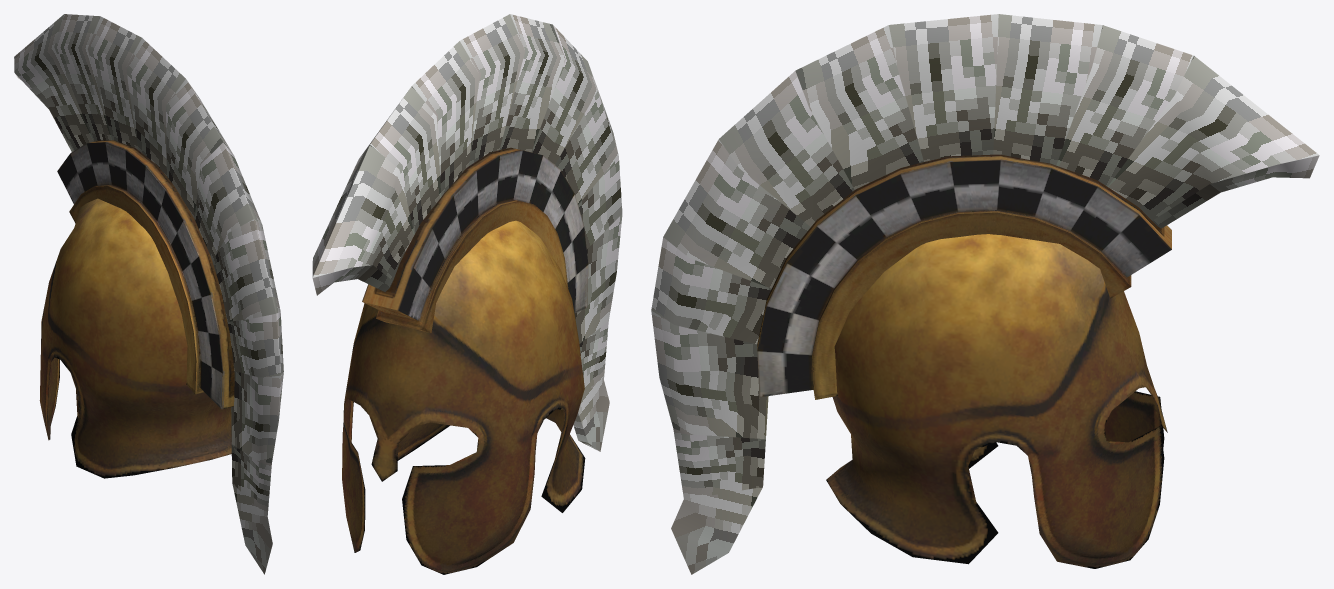
The model's file is helm_hele_chalcidean_a2.glb.
3 renders of one model, left to right at view 1: azimuth 30°, elevation 25°; view 2: azimuth 150°, elevation 25°; view 3: azimuth 270°, elevation 25°, orthographic. The views are drawn at different scales.
Parts seen in each view (by area): view 1: helm_hele_chalcidean_a2_part2, helm_hele_chalcidean_a2_part0, helm_hele_chalcidean_a2_part1; view 2: helm_hele_chalcidean_a2_part0, helm_hele_chalcidean_a2_part2, helm_hele_chalcidean_a2_part1; view 3: helm_hele_chalcidean_a2_part2, helm_hele_chalcidean_a2_part0, helm_hele_chalcidean_a2_part1.
Part boxes in pixels (left/top/right/bottom): helm_hele_chalcidean_a2_part2: left=14, top=14, right=283, bottom=574; helm_hele_chalcidean_a2_part0: left=39, top=198, right=231, bottom=478; helm_hele_chalcidean_a2_part1: left=57, top=140, right=234, bottom=409; helm_hele_chalcidean_a2_part0: left=342, top=220, right=585, bottom=574; helm_hele_chalcidean_a2_part2: left=312, top=14, right=622, bottom=451; helm_hele_chalcidean_a2_part1: left=362, top=147, right=588, bottom=333; helm_hele_chalcidean_a2_part2: left=651, top=14, right=1319, bottom=574; helm_hele_chalcidean_a2_part0: left=826, top=234, right=1167, bottom=568; helm_hele_chalcidean_a2_part1: left=757, top=154, right=1171, bottom=399.
Size of the model in its own units: 0.4345 by 1.12 by 1.21.
Materials: 3 (3 with a texture image).
